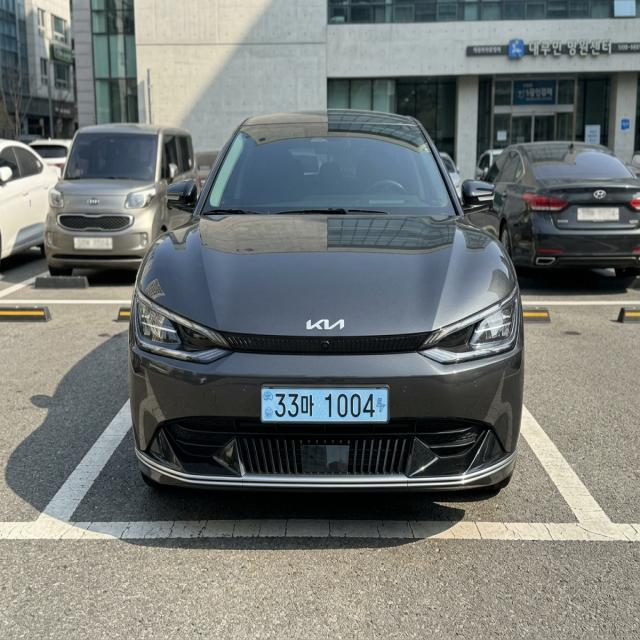car: (233, 379, 417, 438)
carev: (374, 379, 393, 425), (258, 379, 275, 429)
